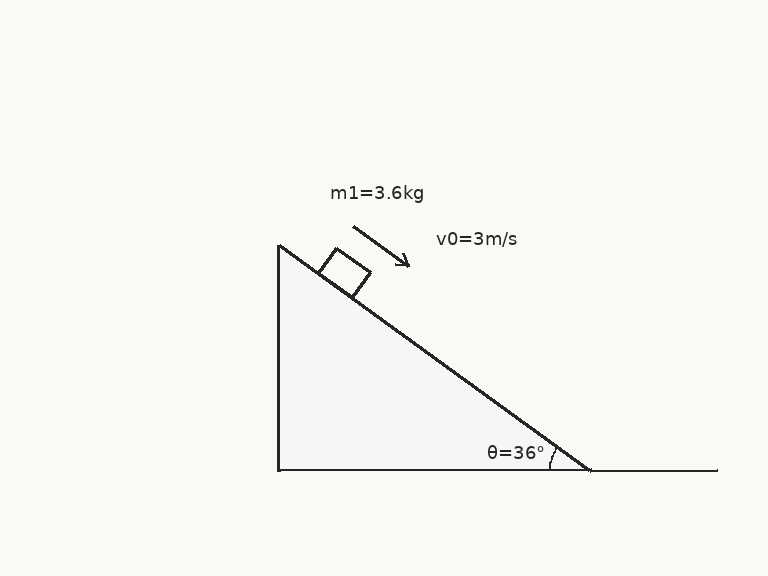block: (316, 246, 372, 299)
ramp: (277, 242, 592, 472)
